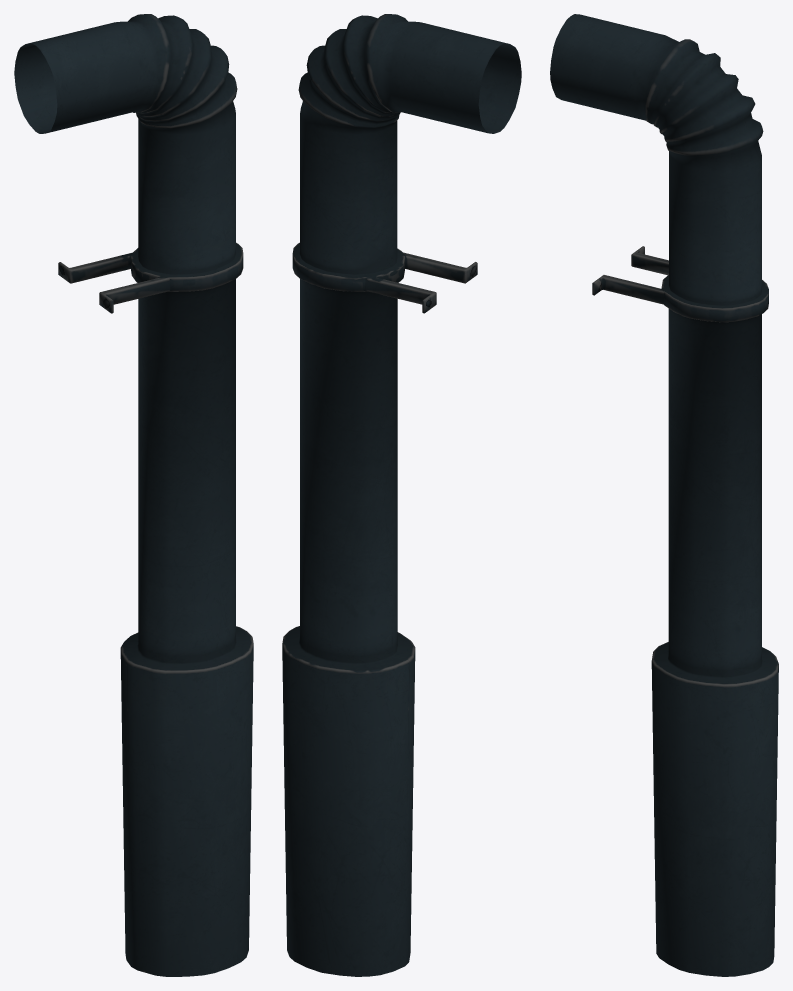
The model's file is pipe_02.gltf.
The picture shows the model from 3 angles, left to right: view 1: azimuth 30°, elevation 25°; view 2: azimuth 150°, elevation 25°; view 3: azimuth 330°, elevation 25°; orthographic projection. The views are drawn at different scales.
Visible parts, largest first — view 1: pipe_02; view 2: pipe_02; view 3: pipe_02.
Boxes of the visible parts, x1=… form: pipe_02: x1=14, y1=14, x2=253, y2=976; pipe_02: x1=282, y1=14, x2=521, y2=976; pipe_02: x1=550, y1=14, x2=778, y2=976.
Size of the model in its own units: 0.5518 by 2.35 by 0.265.
1 material, 1 textured.
